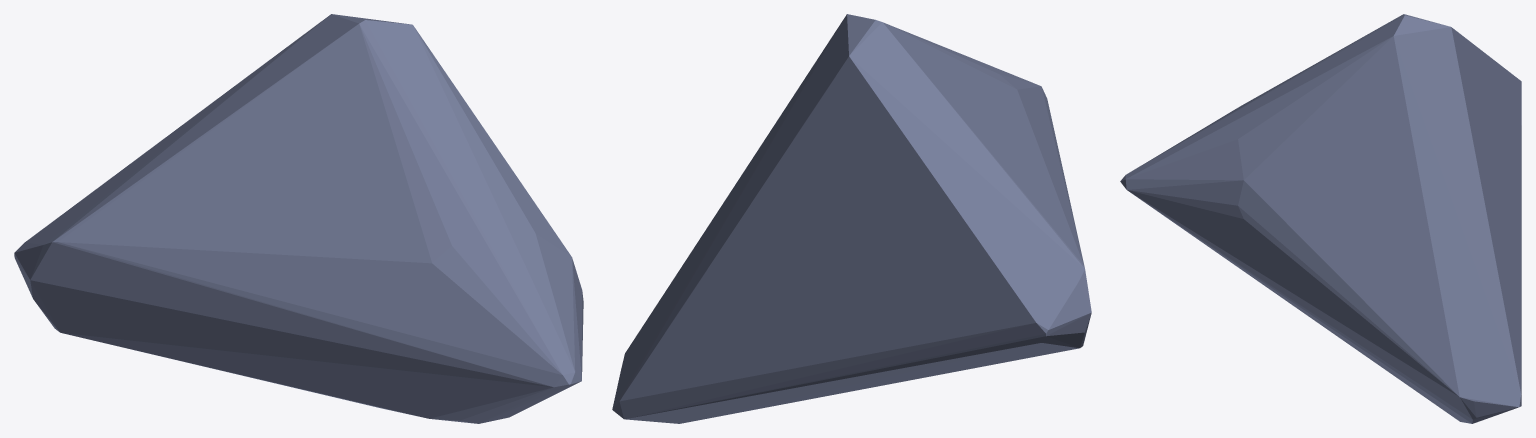
The model's file is engineComponent_engine_mount_d01.glb.
The picture shows the model from 3 angles, left to right: view 1: azimuth 30°, elevation 25°; view 2: azimuth 150°, elevation 25°; view 3: azimuth 270°, elevation 25°; orthographic projection. The views are drawn at different scales.
Parts seen in each view (by area): view 1: geometry_0; view 2: geometry_0; view 3: geometry_0.
Boxes of the visible parts, box(x1,y1,x2,y2) form: geometry_0: box(14, 14, 583, 423); geometry_0: box(612, 14, 1091, 423); geometry_0: box(1120, 14, 1521, 423).
Bounding box in the file's own units: 0.4795 × 0.4045 × 0.4302.
